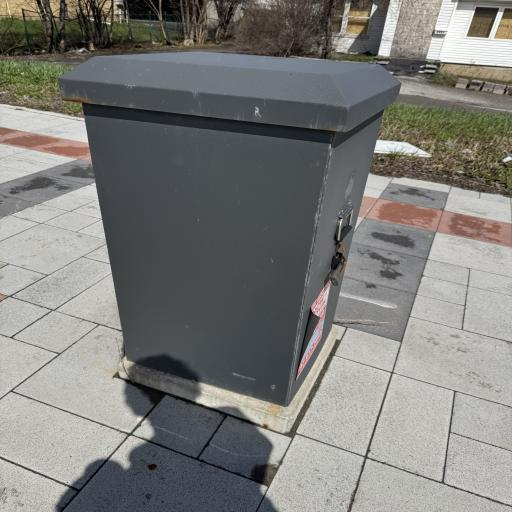Electrical Box: (58, 52, 406, 401)
